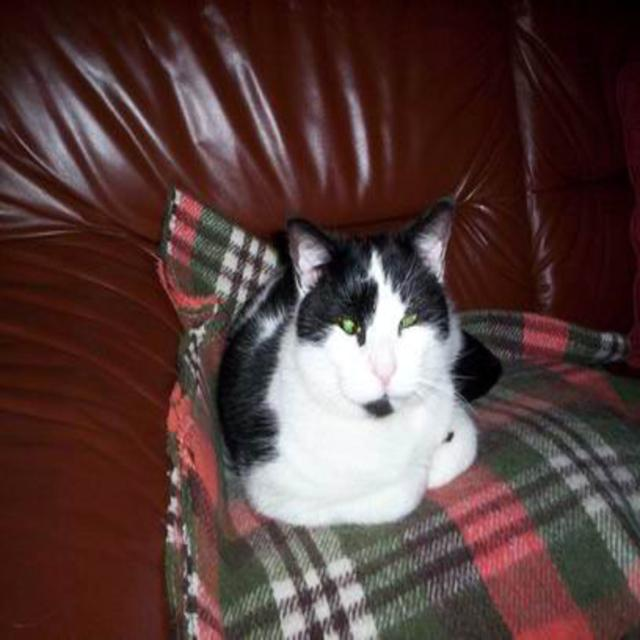Cat: (212, 200, 506, 529)
